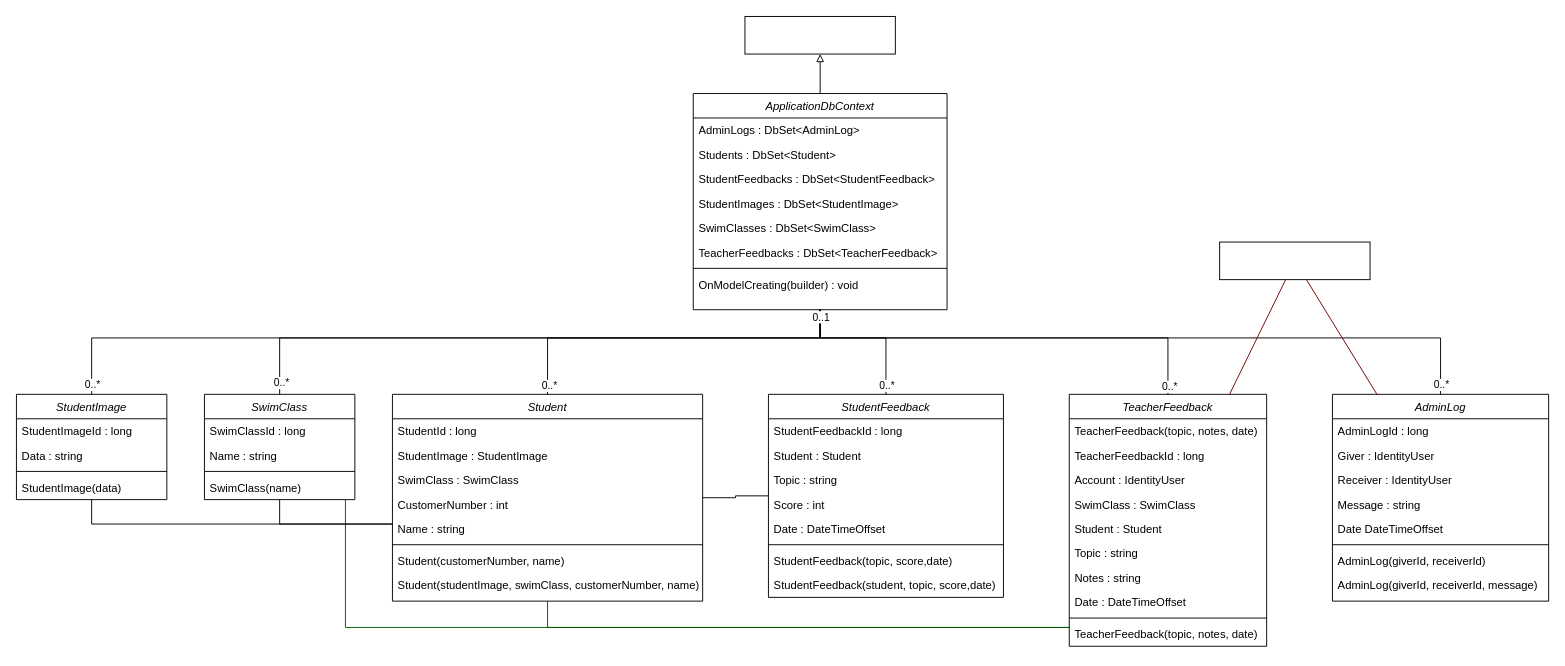
The diagram is 1565 pixels wide and 666 high, and some of its shapes have lost their labels. Each missing label, with the centre of its shape:
IdentityDbContext Identity: the point at 819,35
IdentityUser Identity: the point at 1294,260
